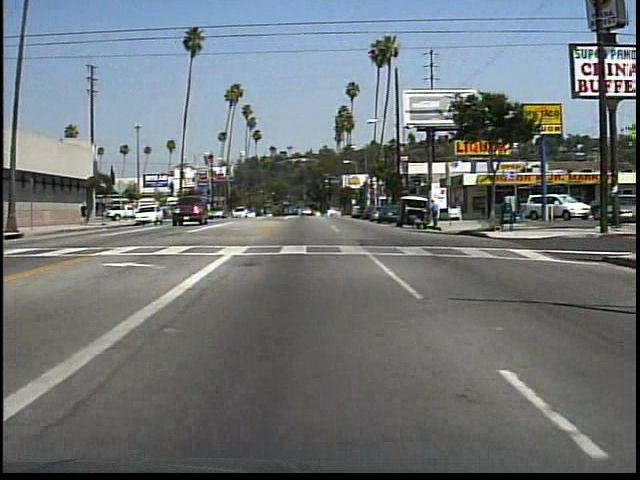person: (430, 197, 442, 232), (476, 193, 490, 221), (410, 214, 427, 232), (81, 199, 89, 228)
